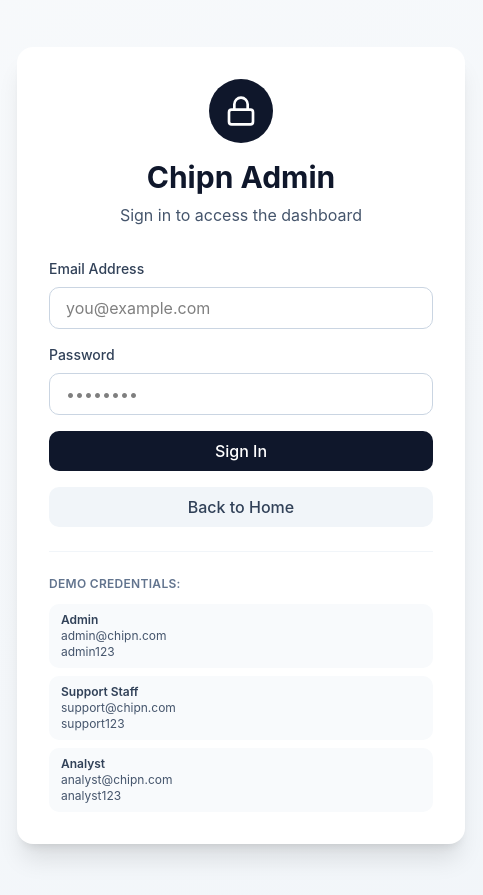
Test: AdminLoginPage › shows error when email is empty
The width and height of the screenshot is (483, 895).
Step 1. Click the button "Sign In" → (241, 450), box [49,430,433,470]
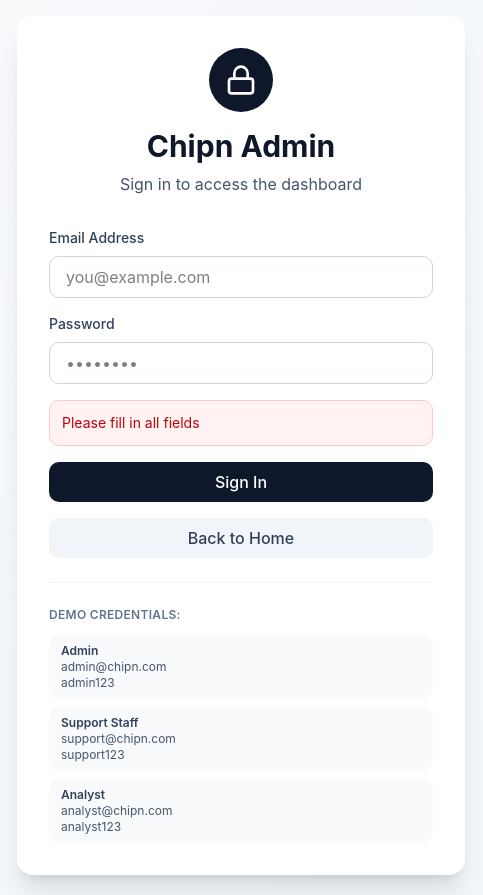
Expected: the text "Please fill in all fields" is shown, [62,414,200,430]
